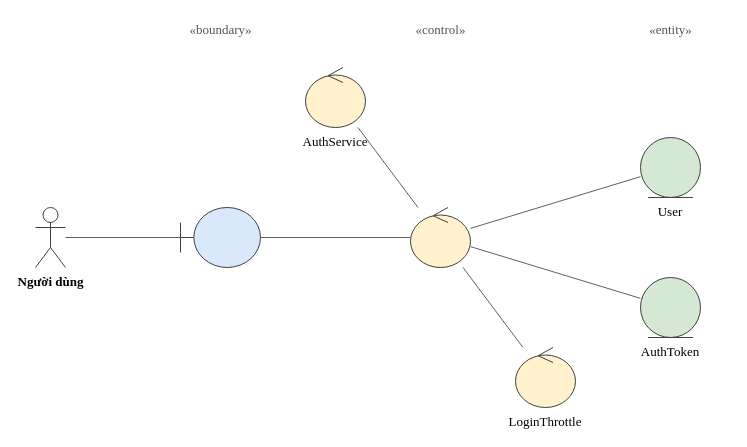
The diagram is 747 pixels wide and 447 high, and some of its shapes have lost their labels. Here are the shapes that lost their labels. From the top down, the centre of each, then its label:
At point (220, 237): "AuthView".
At point (440, 237): "AuthController".
